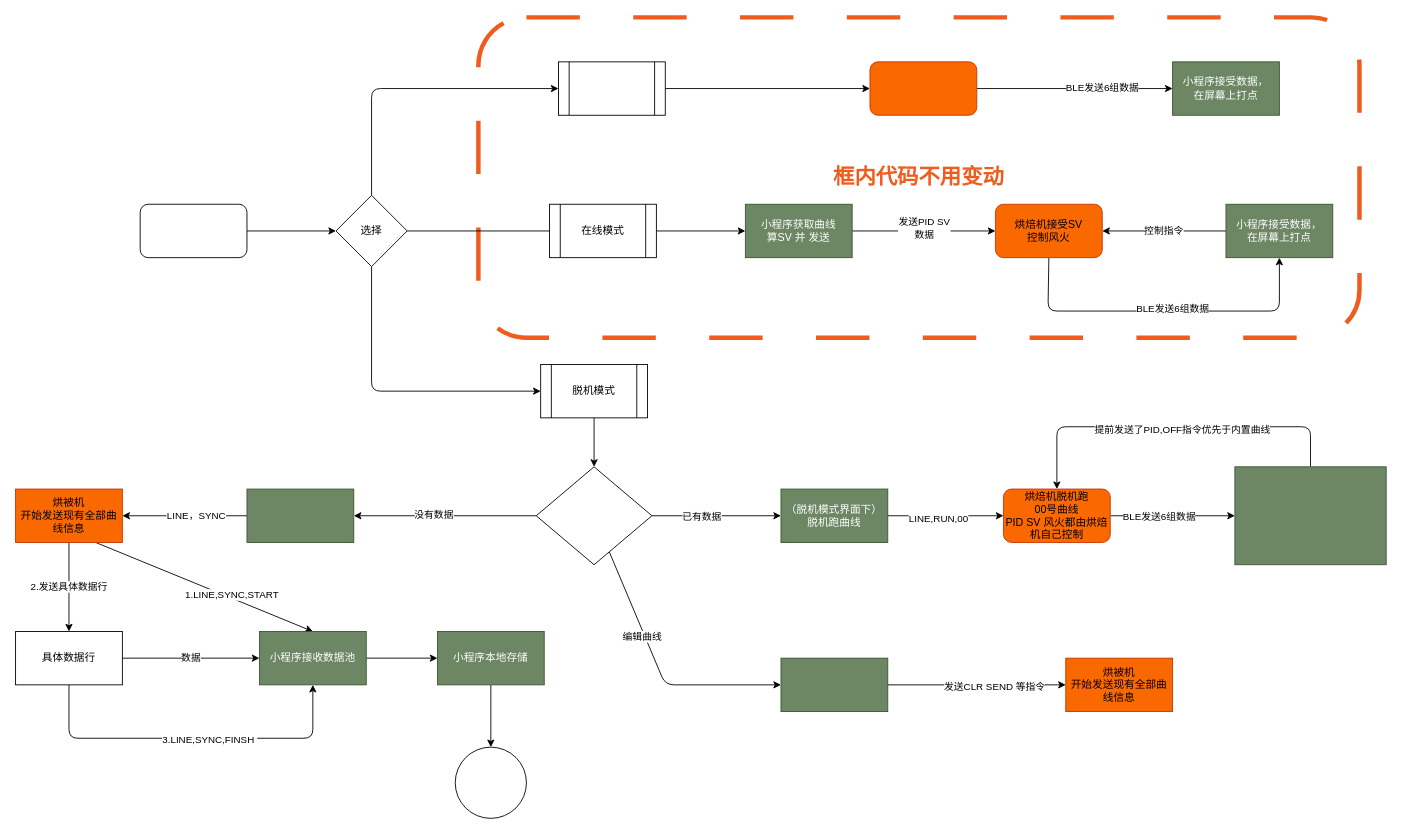
This 1402x834 diagram has some shape labels left out. The centre of each missing label's shape, as x and y in pixels:
"初次连接 小程序的脱机页面里面没有曲线" belongs at (593,515).
"小程序发送 LINE SYNC" belongs at (300,515).
"小程序接受数据， 在屏幕上打点 脱机跑线完成后，烘焙机发送烘焙结束指令给小程序" belongs at (1310,515).
"烘被机 手动操作" belongs at (923,88).
"用户进入小程序" belongs at (193,230).
"纯手动" belongs at (611,88).
"结束" belongs at (490,782).
"（脱机模式界面下） 选择编辑数据 按发送保存按钮" belongs at (834,684).
